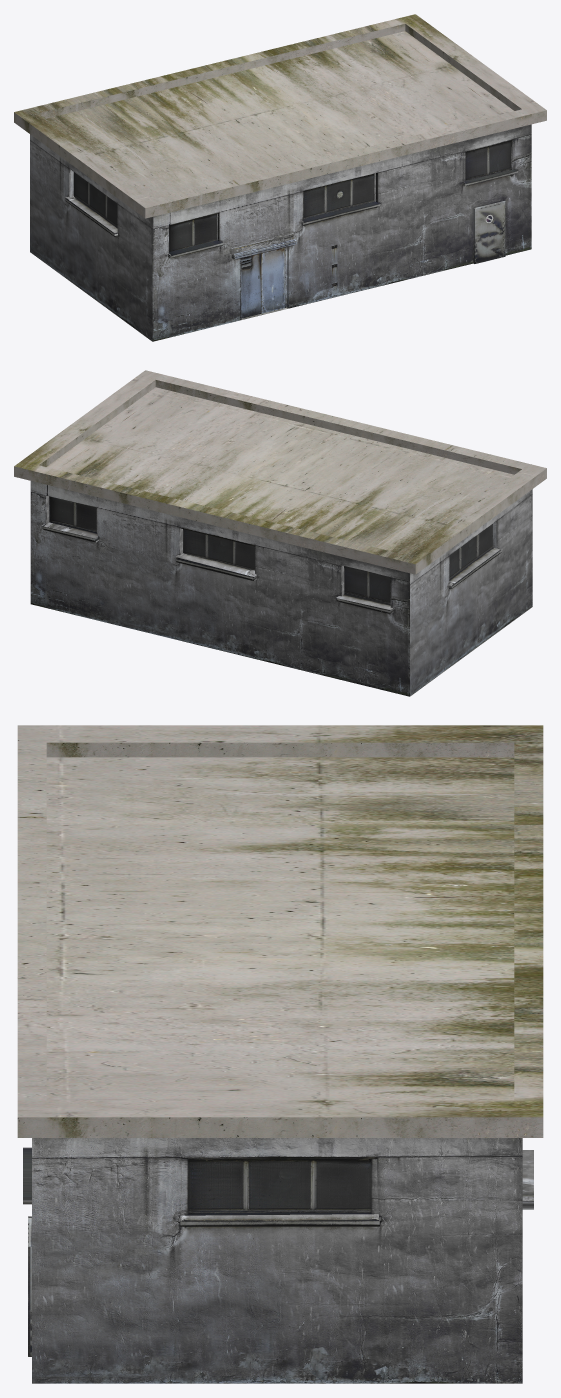
Rendered from ind4_dirt_house_lod.fbx.
The picture shows the model from 3 angles, top to bottom: view 1: azimuth 30°, elevation 25°; view 2: azimuth 150°, elevation 25°; view 3: azimuth 270°, elevation 25°; orthographic projection. The views are drawn at different scales.
Visible parts, largest first — view 1: Mesh Object; view 2: Mesh Object; view 3: Mesh Object.
Boxes of the visible parts, box(x1,y1,x2,y2) form: Mesh Object: box(14, 14, 546, 341); Mesh Object: box(14, 370, 546, 696); Mesh Object: box(17, 725, 543, 1383).
Size of the model in its own units: 21.75 by 7.18 by 12.33.
